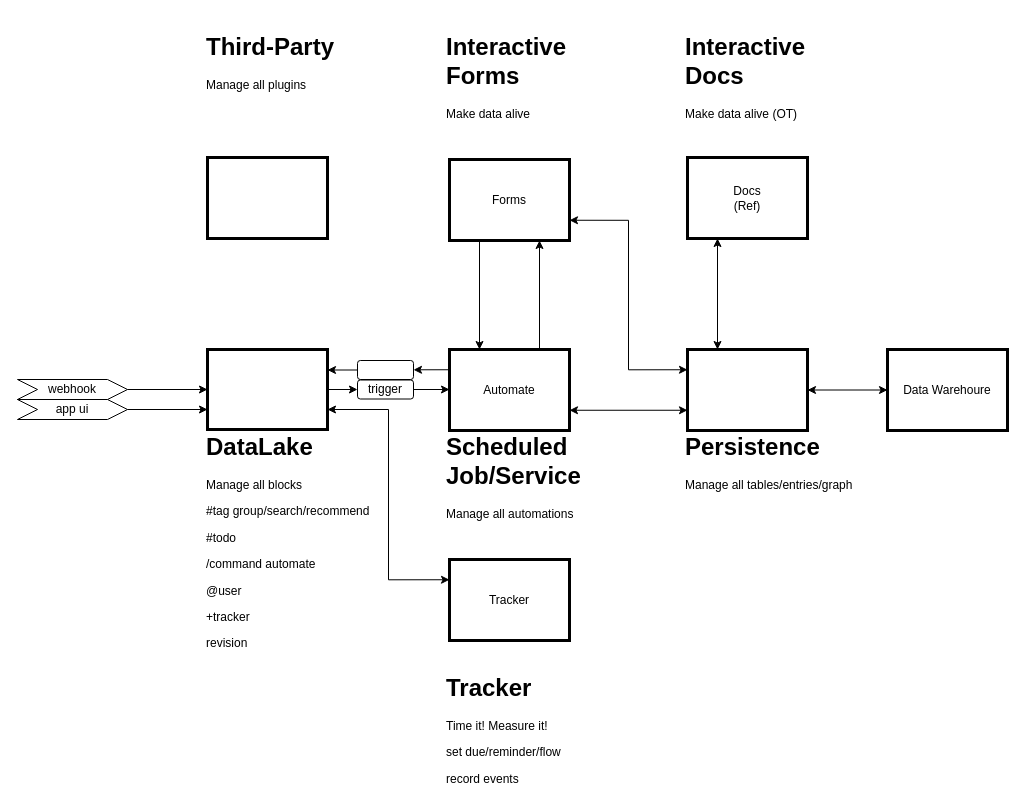
The diagram is 1026 pixels wide and 805 high, and some of its shapes have lost their labels. The shapes that lost their labels are listed below. From the top down, each one's centre as x and y in pixels, then its label:
the point at 267,198: Third-party Services Image/Files/OCR
the point at 267,389: Inbox
the point at 385,370: scrawler
the point at 747,390: Database
